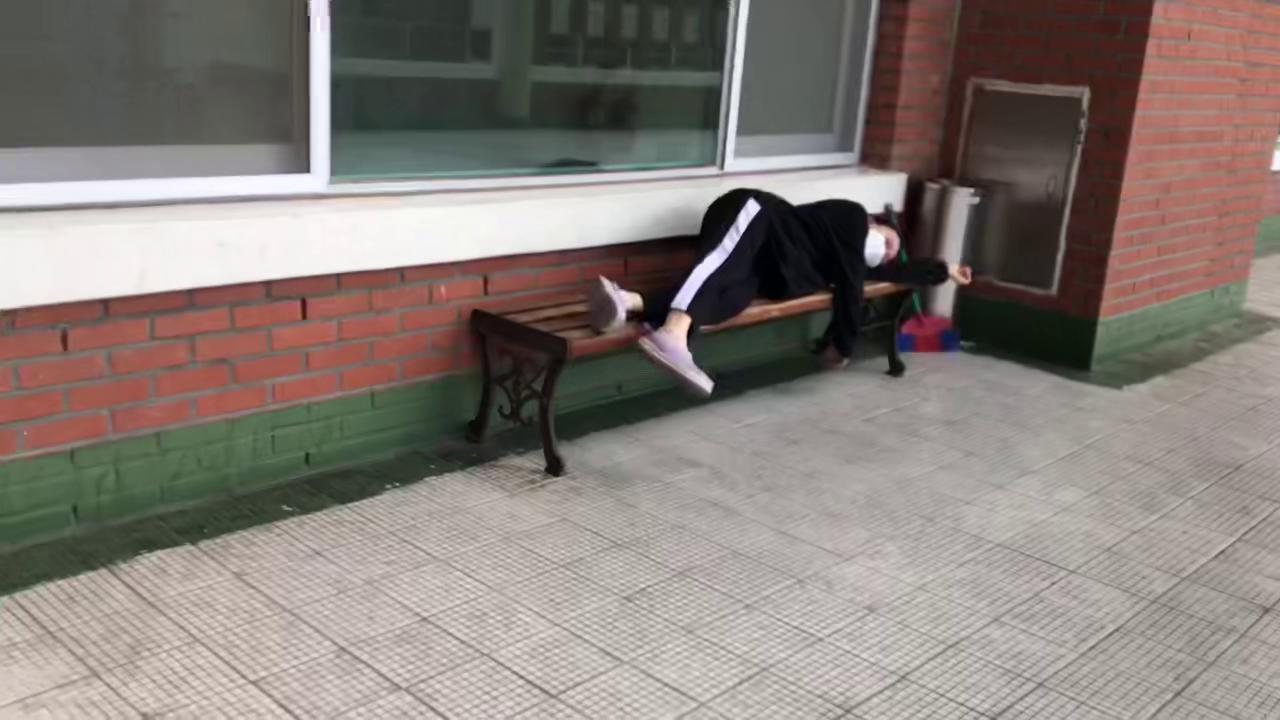sleep: (585, 191, 973, 376)
